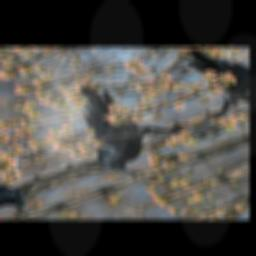Crow: (34, 76, 203, 181)
